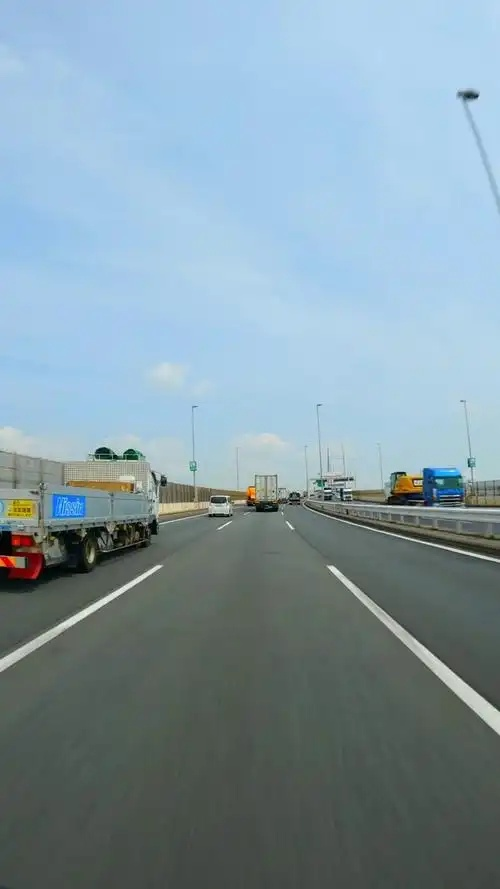lane: (321, 564, 500, 733), (5, 564, 169, 672), (314, 508, 496, 564), (217, 518, 231, 532)
